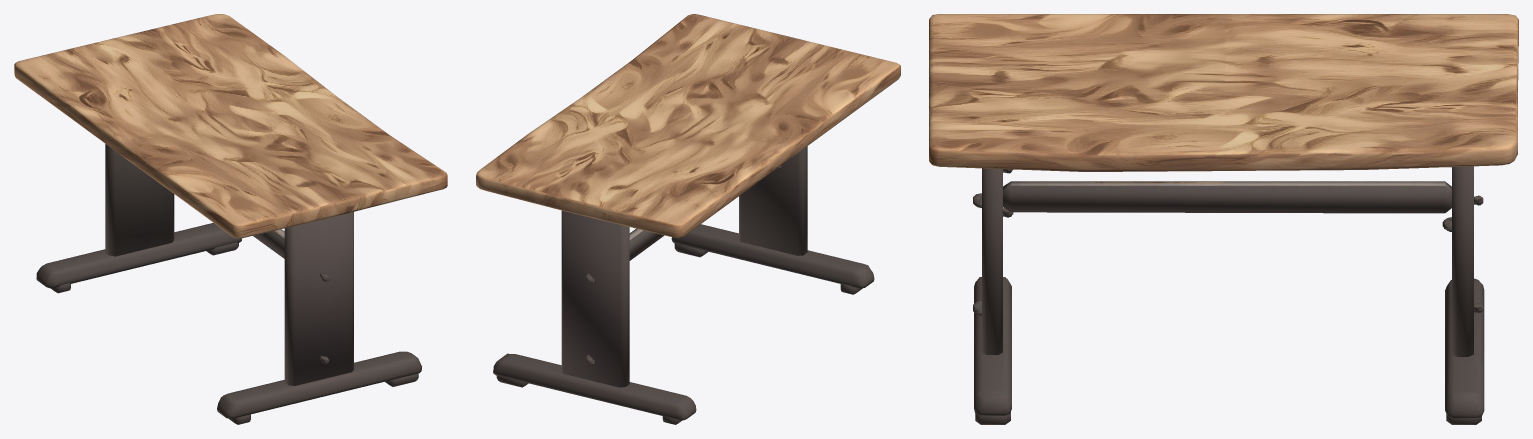
3 renders of one model, left to right at view 1: azimuth 30°, elevation 25°; view 2: azimuth 150°, elevation 25°; view 3: azimuth 270°, elevation 25°, orthographic. The views are drawn at different scales.
Parts seen in each view (by area): view 1: tripo_node_2c893d09; view 2: tripo_node_2c893d09; view 3: tripo_node_2c893d09.
Boxes of the visible parts, x1,y1,x2,y2 form: tripo_node_2c893d09: (14,14,447,424); tripo_node_2c893d09: (476,14,900,424); tripo_node_2c893d09: (929,14,1518,424).
Bounding box in the file's own units: 0.5488 × 0.5332 × 0.998.
Materials: 1 (1 with a texture image).
